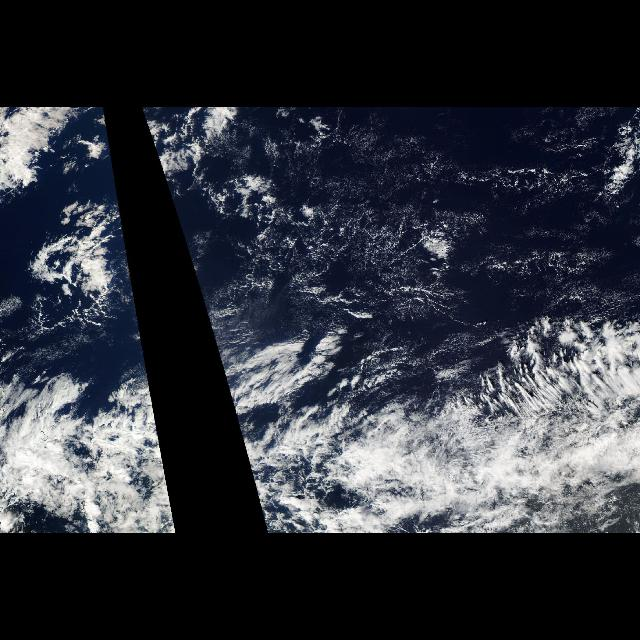Fish: (328, 123, 592, 215)
Sugar: (248, 116, 608, 340)
